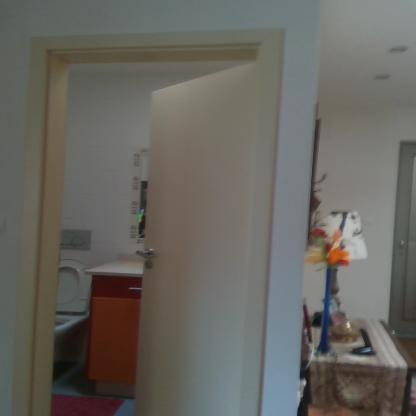semi: (25, 28, 286, 416)
